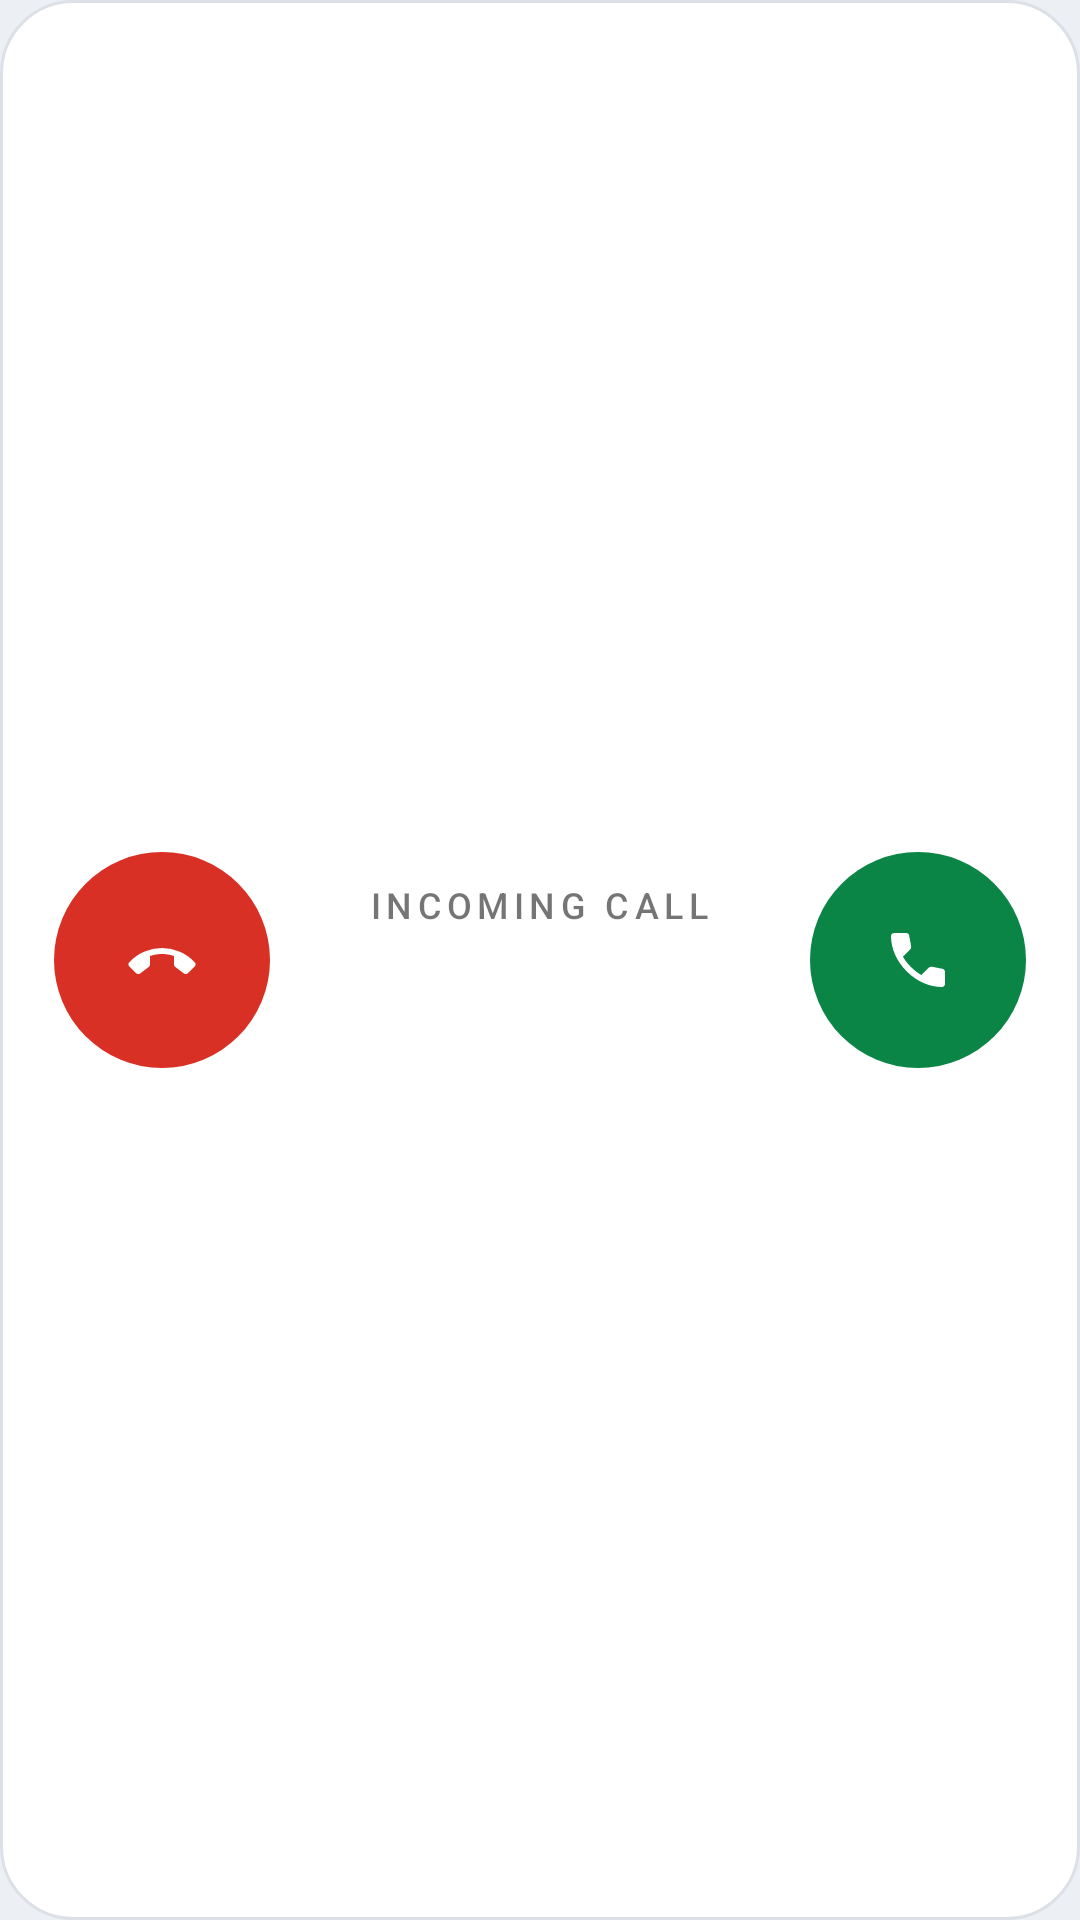

Where icons sit on this 1080w x 1920h app screen, as rect(x1, y1, x2, y2):
Answer: rect(810, 852, 1026, 1068)
Decline: rect(54, 852, 270, 1068)
